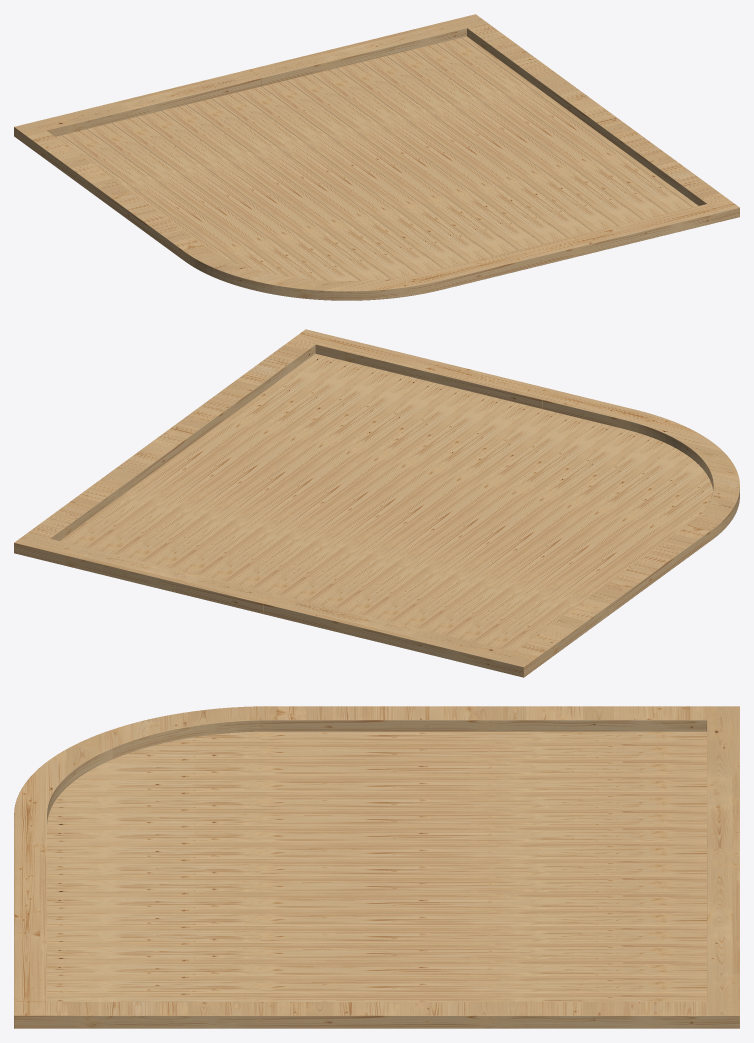
The model's file is Roundy_Lagi.glb.
3 views of the same model, one above another, from view 1: azimuth 30°, elevation 25°; view 2: azimuth 150°, elevation 25°; view 3: azimuth 270°, elevation 25° (orthographic). The views are drawn at different scales.
Visible parts, largest first — view 1: Box2131641187, Box2131641171, Rectangle832, Rectangle833; view 2: Box2131641187, Box2131641171, Rectangle833, Rectangle832; view 3: Box2131641171, Box2131641187, Rectangle833, Rectangle832.
Boxes of the visible parts, x1,y1,x2,y2 form: Box2131641187: (262, 36, 698, 255); Box2131641171: (55, 86, 492, 281); Rectangle832: (14, 69, 513, 300); Rectangle833: (250, 14, 739, 271); Box2131641187: (60, 353, 541, 596); Box2131641171: (287, 409, 712, 651); Rectangle833: (14, 329, 555, 614); Rectangle832: (264, 390, 739, 677); Box2131641171: (47, 731, 706, 875); Box2131641187: (47, 875, 706, 1001); Rectangle833: (14, 864, 739, 1028); Rectangle832: (14, 706, 739, 863).
Bounding box in the file's own units: 2.22 × 0.0583 × 2.2.
Materials: 1 (1 with a texture image).
